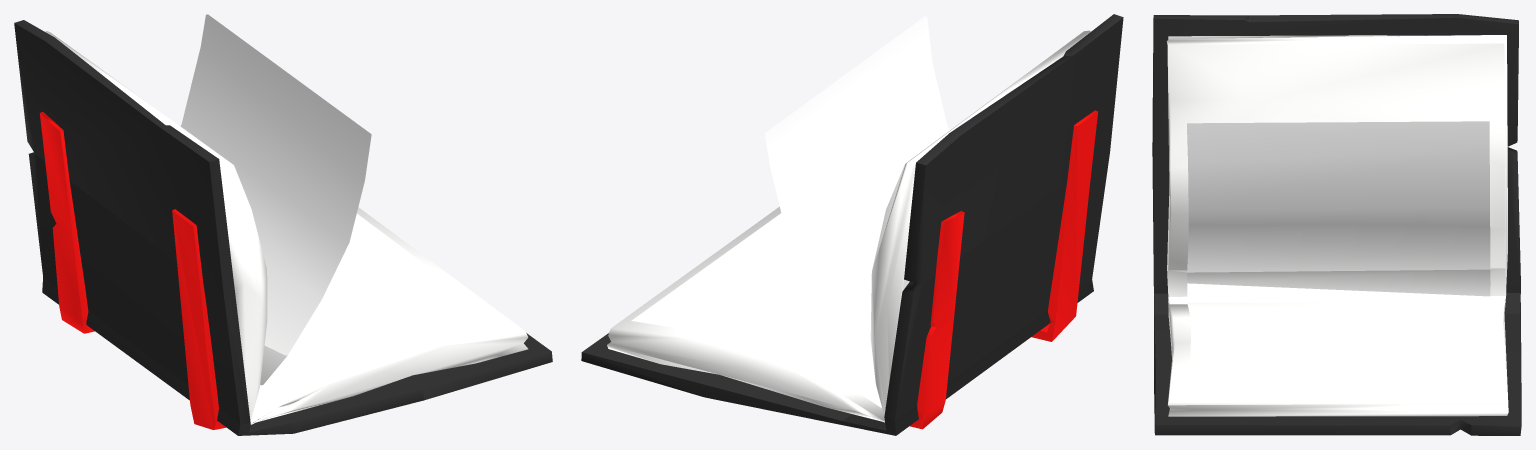
Rendered from 81beb2bc-94bc-4017-989b-e9535ce6abb8.glb.
3 views of the same model, side by side, from view 1: azimuth 30°, elevation 25°; view 2: azimuth 150°, elevation 25°; view 3: azimuth 270°, elevation 25° (orthographic). The views are drawn at different scales.
Parts seen in each view (by area): view 1: CyberPunkGuestBookFlipping.002; view 2: CyberPunkGuestBookFlipping.002; view 3: CyberPunkGuestBookFlipping.002.
Boxes of the visible parts, x1=… form: CyberPunkGuestBookFlipping.002: x1=14, y1=14, x2=552, y2=435; CyberPunkGuestBookFlipping.002: x1=581, y1=14, x2=1123, y2=435; CyberPunkGuestBookFlipping.002: x1=1152, y1=14, x2=1521, y2=435.
Size of what is drawn, in the model's own units: 0.3266 by 0.2728 by 0.3243.
Materials: 2 (2 with a texture image).
